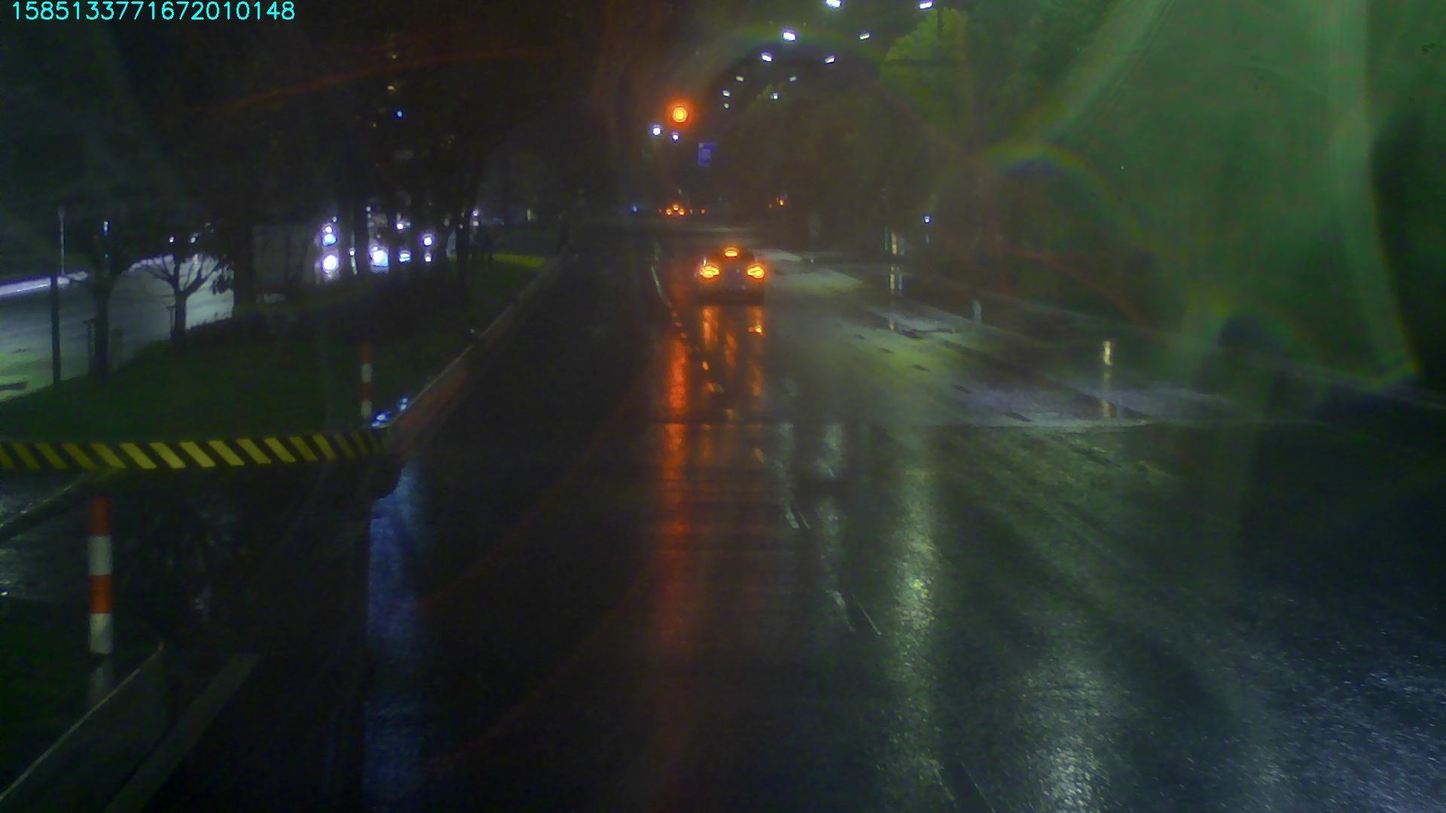red: (664, 102, 691, 125)
